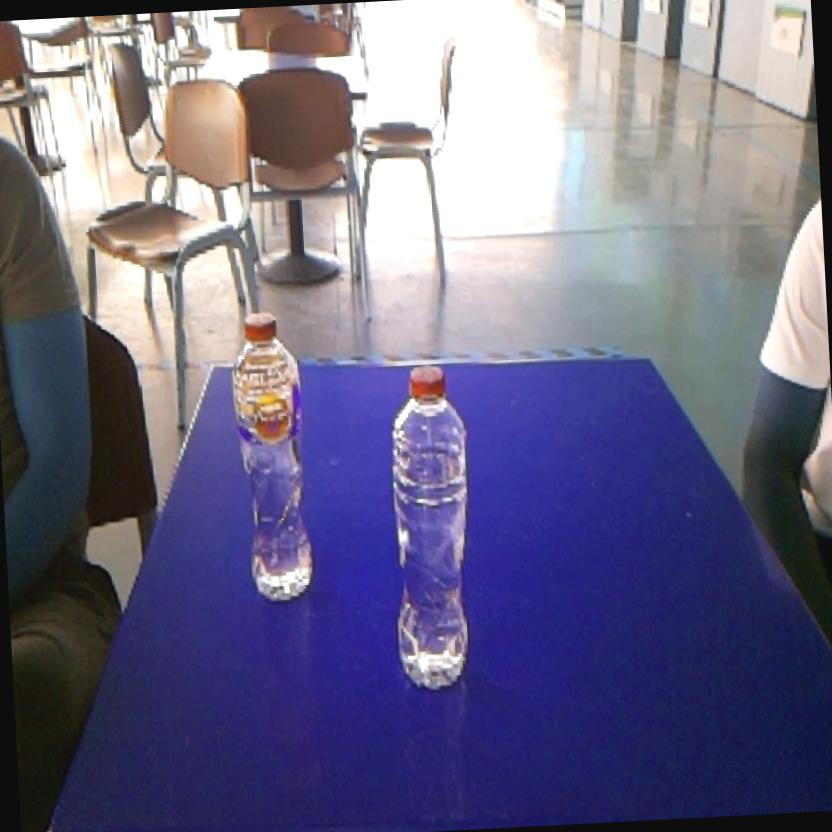good: (220, 303, 331, 610)
no_label: (376, 356, 486, 698)
